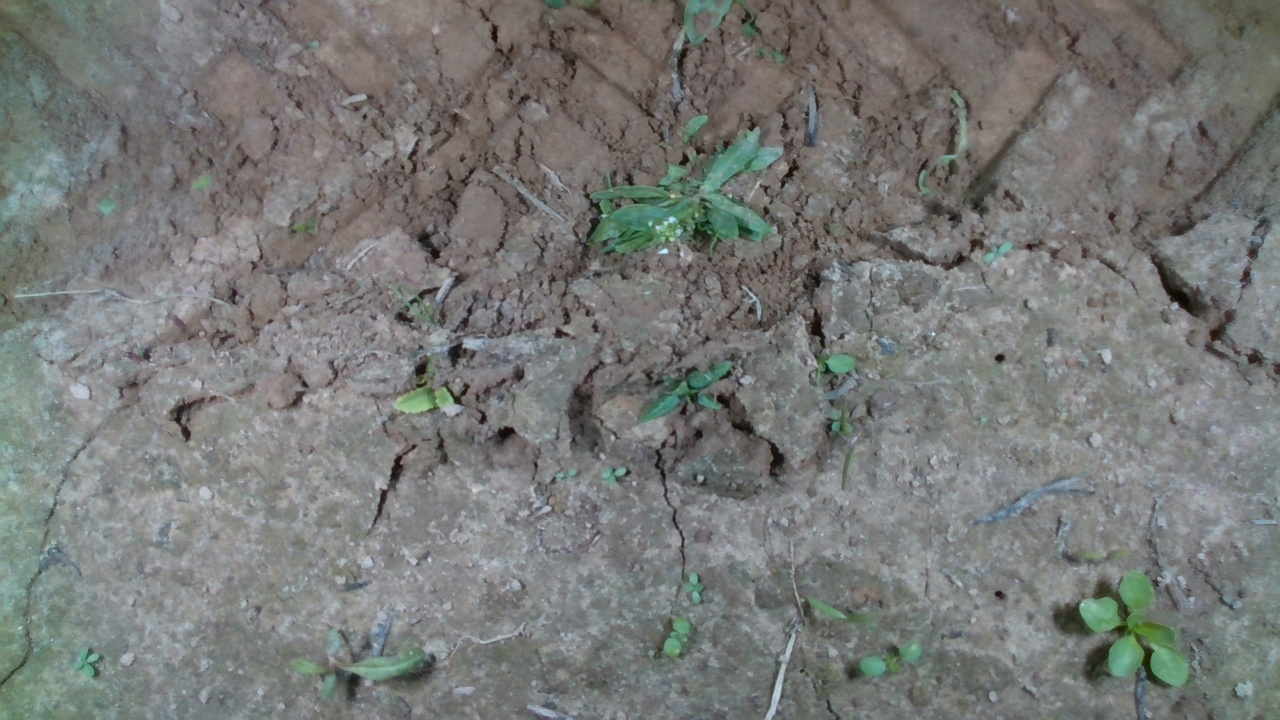weed: (858, 637, 923, 677), (661, 614, 692, 658), (70, 643, 100, 678), (677, 569, 705, 603), (599, 465, 628, 484), (554, 467, 578, 481)
